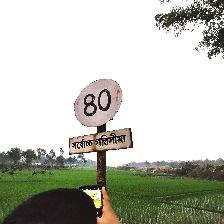Speed-limit: (65, 78, 135, 153)
